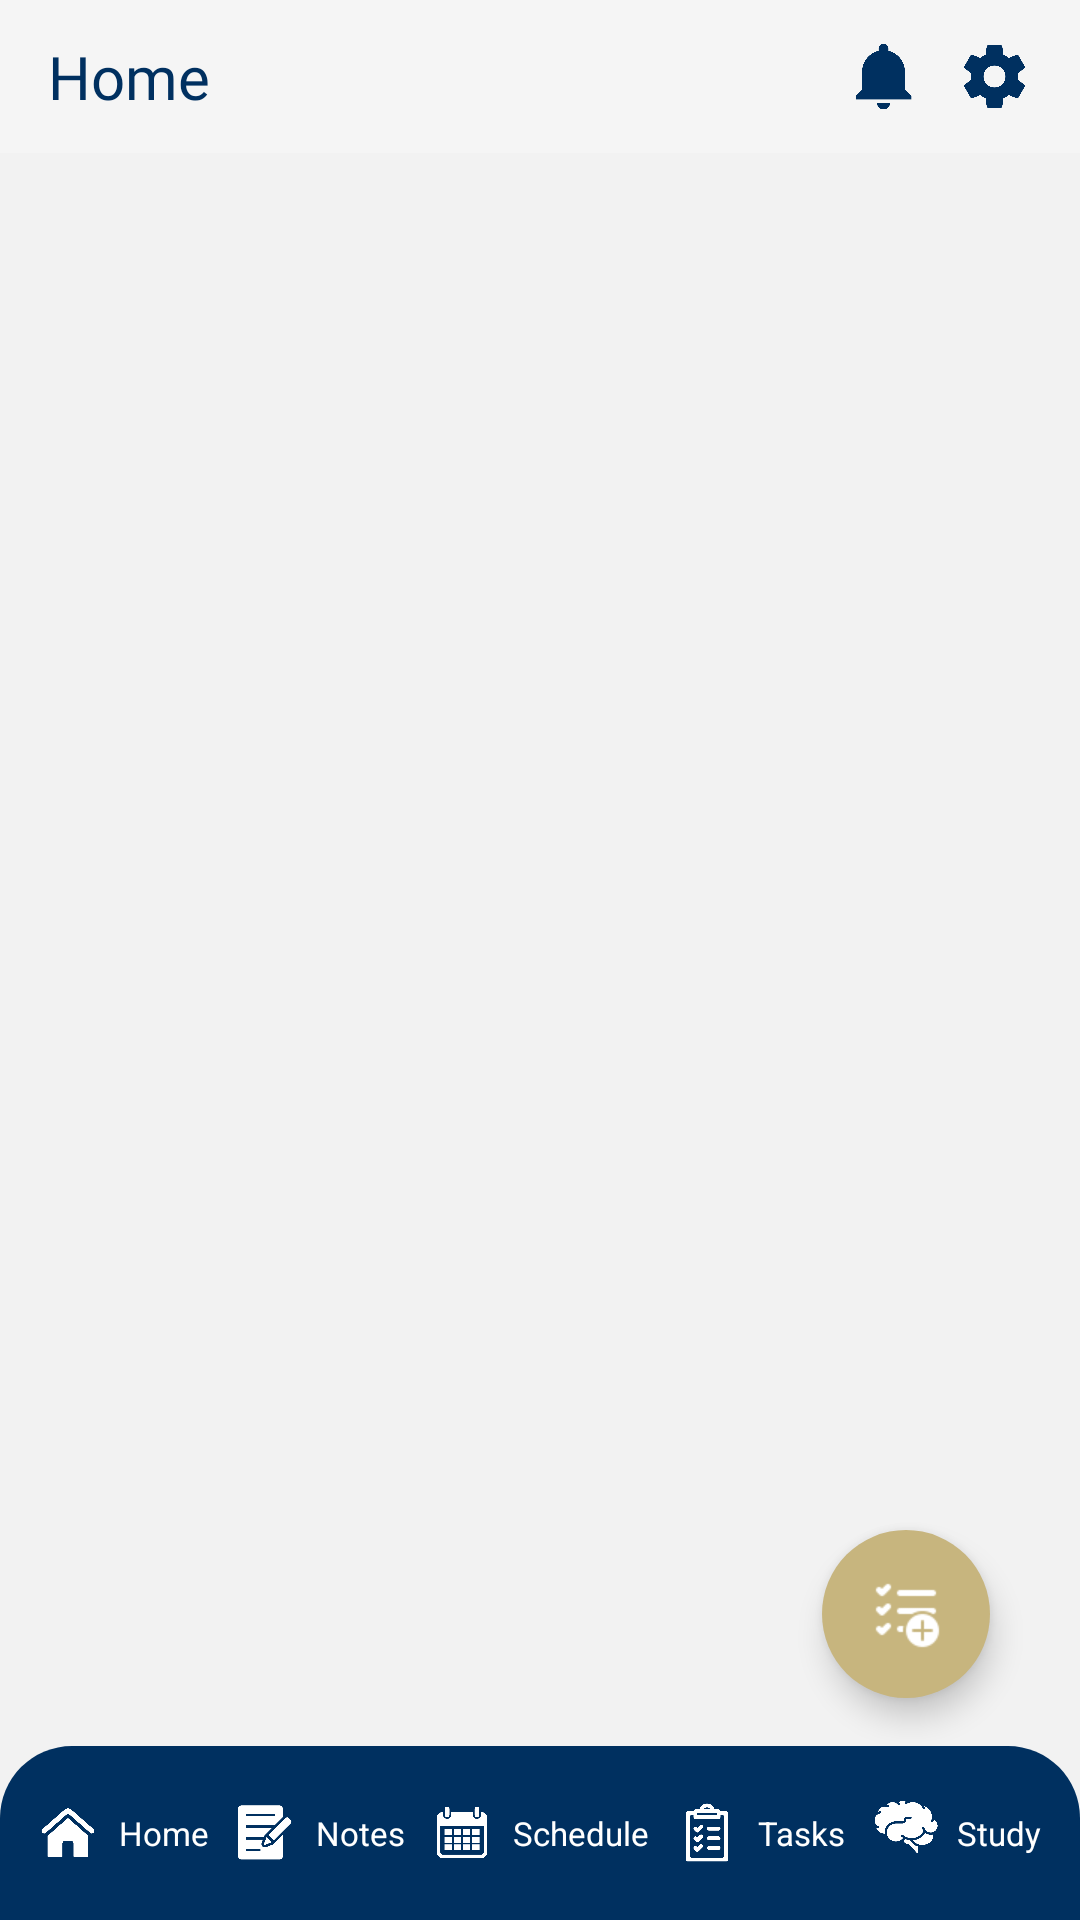

Named icons in this screenshot (1080x1920) and their bounding boxes, (x1, y1, x2, y2):
Add Task: (822, 1530, 990, 1698)
brain: (875, 1801, 938, 1853)
Notifications: (856, 44, 912, 109)
settings: (964, 45, 1025, 108)
